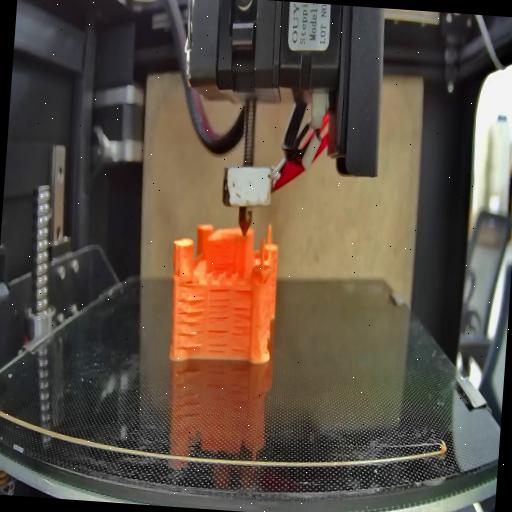cracks: (176, 298, 208, 350), (230, 304, 254, 356), (208, 286, 232, 324), (207, 328, 229, 352), (232, 284, 252, 300), (180, 276, 201, 290)
